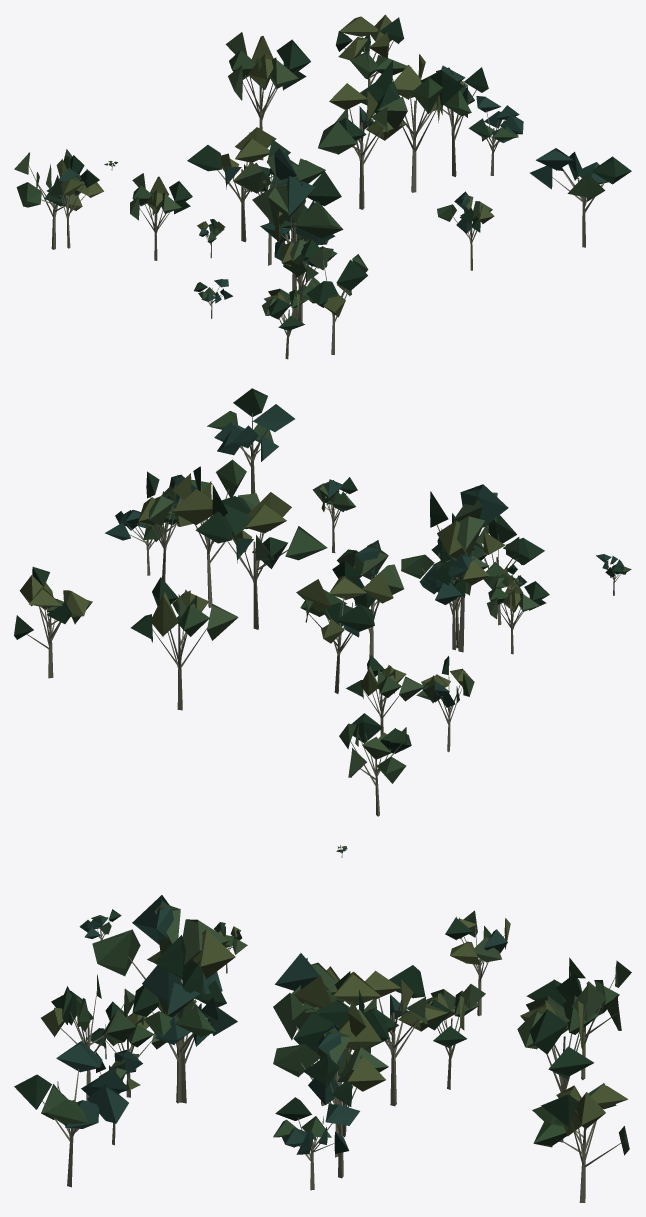
Rendered from forest_19_24.dae.
3 views of the same model, one above another, from view 1: azimuth 30°, elevation 25°; view 2: azimuth 150°, elevation 25°; view 3: azimuth 270°, elevation 25° (orthographic). The views are drawn at different scales.
Visible parts, largest first — view 1: Node; view 2: Node; view 3: Node.
Boxes of the visible parts, x1=… form: Node: x1=14, y1=14, x2=631, y2=359; Node: x1=14, y1=388, x2=631, y2=816; Node: x1=14, y1=845, x2=631, y2=1202.
Bounding box in the file's own units: 10.7 × 11.1 × 4.87.
